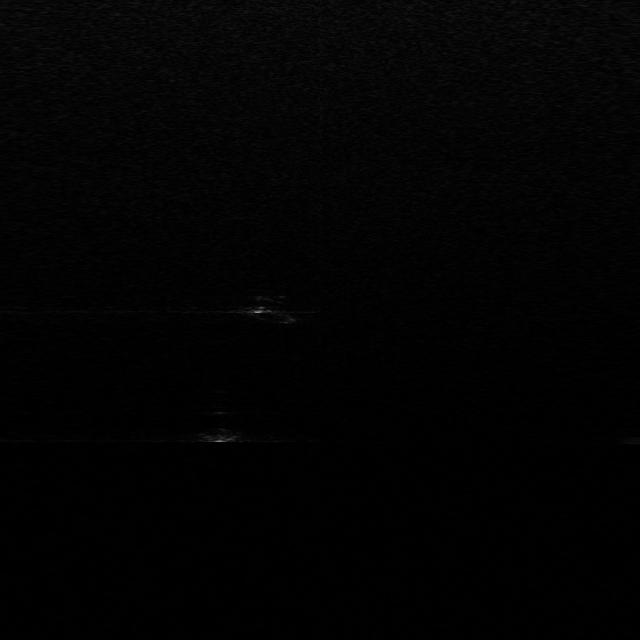ball: (190, 404, 250, 442)
tyre: (242, 294, 296, 326)
